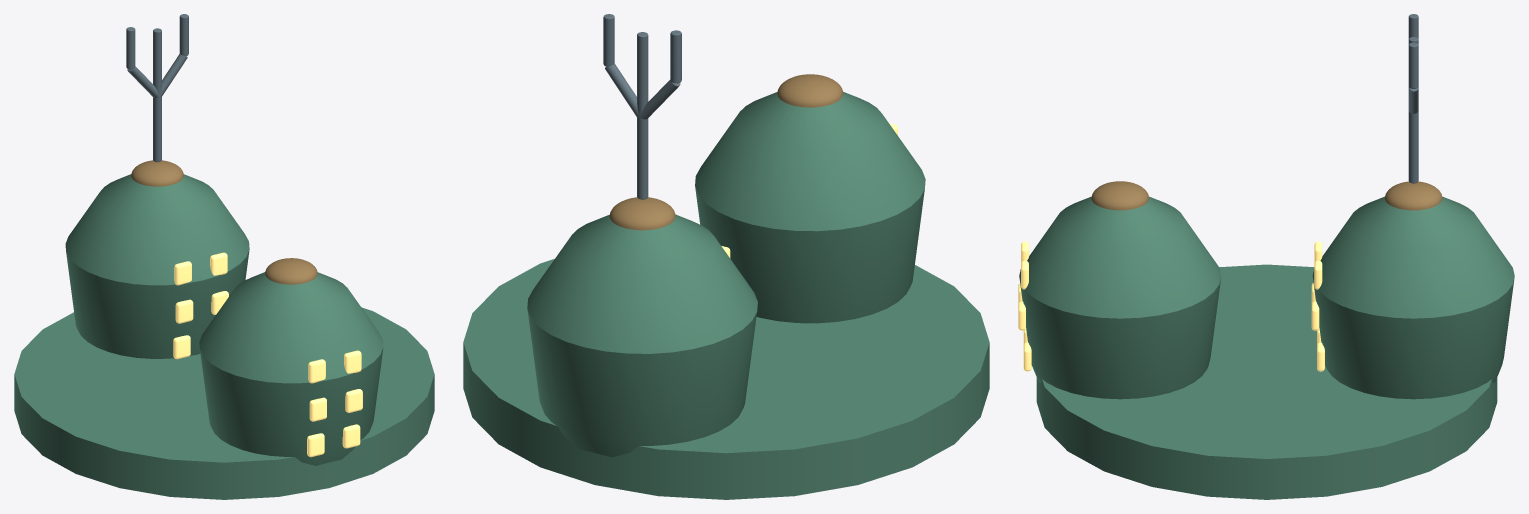
The picture shows the model from 3 angles, left to right: view 1: azimuth 30°, elevation 25°; view 2: azimuth 150°, elevation 25°; view 3: azimuth 270°, elevation 25°; orthographic projection. The views are drawn at different scales.
Visible parts, largest first — view 1: Foundation drum, Bulb shaped chamber.001, Bulb shaped chamber, Aerial stem, Tower crown.001, Tower crown; view 2: Foundation drum, Bulb shaped chamber, Bulb shaped chamber.001, Aerial stem, Tower crown.001, Tower crown, Aerial fork tine, Aerial fork tine.001, Aerial fork.001; view 3: Foundation drum, Bulb shaped chamber, Bulb shaped chamber.001, Tower crown.001, Tower crown, Aerial stem.
Part boxes in pixels (box(x1,y1,x2,y2)): Foundation drum: box(14, 307, 434, 499); Bulb shaped chamber.001: box(199, 272, 383, 465); Bulb shaped chamber: box(65, 174, 249, 358); Aerial stem: box(153, 28, 161, 162); Tower crown.001: box(265, 258, 317, 284); Tower crown: box(131, 160, 183, 186); Foundation drum: box(463, 259, 989, 499); Bulb shaped chamber: box(527, 214, 757, 457); Bulb shaped chamber.001: box(695, 91, 925, 323); Aerial stem: box(637, 32, 648, 199); Tower crown.001: box(777, 74, 843, 107); Tower crown: box(609, 197, 675, 230); Aerial fork tine: box(670, 30, 681, 83); Aerial fork tine.001: box(603, 14, 614, 66); Aerial fork.001: box(605, 64, 639, 117); Foundation drum: box(1036, 264, 1497, 499); Bulb shaped chamber: box(1312, 196, 1514, 399); Bulb shaped chamber.001: box(1019, 196, 1221, 399); Tower crown.001: box(1091, 181, 1148, 210); Tower crown: box(1385, 181, 1442, 210); Aerial stem: box(1408, 37, 1418, 183).
Size of the model in its own units: 2.04 by 1.82 by 2.2.
